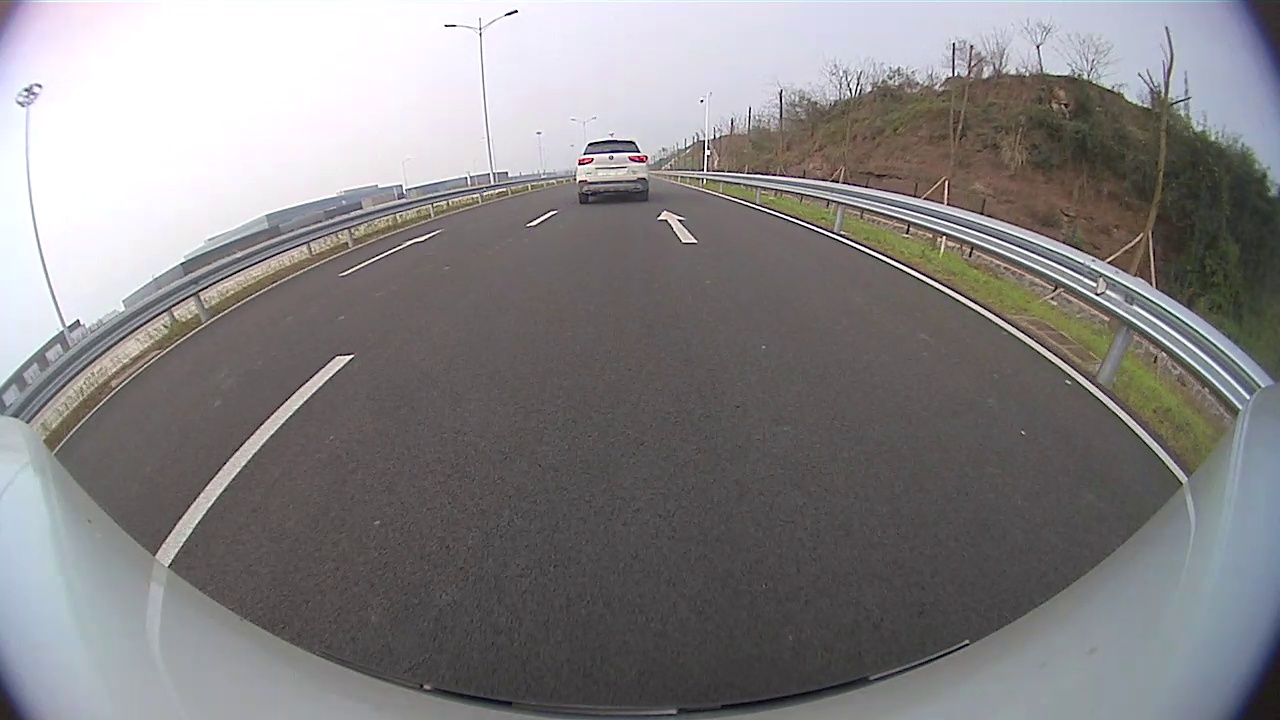car: (574, 138, 651, 205)
